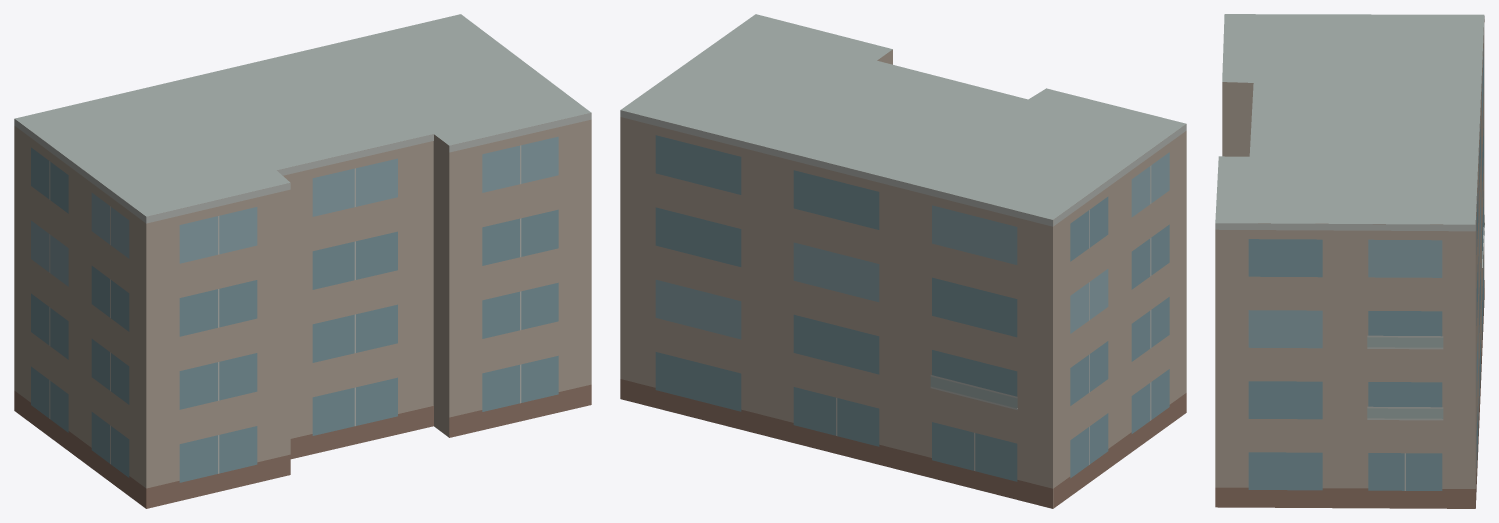
Rendered from survey-upis-32599669.glb.
3 renders of one model, left to right at view 1: azimuth 30°, elevation 25°; view 2: azimuth 150°, elevation 25°; view 3: azimuth 270°, elevation 25°, orthographic. The views are drawn at different scales.
Visible parts, largest first — view 1: survey-upis-32599669.tmp; view 2: survey-upis-32599669.tmp; view 3: survey-upis-32599669.tmp.
Part boxes in pixels (box(x1,y1,x2,y2)): survey-upis-32599669.tmp: box(14, 14, 591, 508); survey-upis-32599669.tmp: box(620, 14, 1186, 508); survey-upis-32599669.tmp: box(1215, 14, 1484, 508).
Size of the model in its own units: 16.56 by 10.4 by 8.94.
